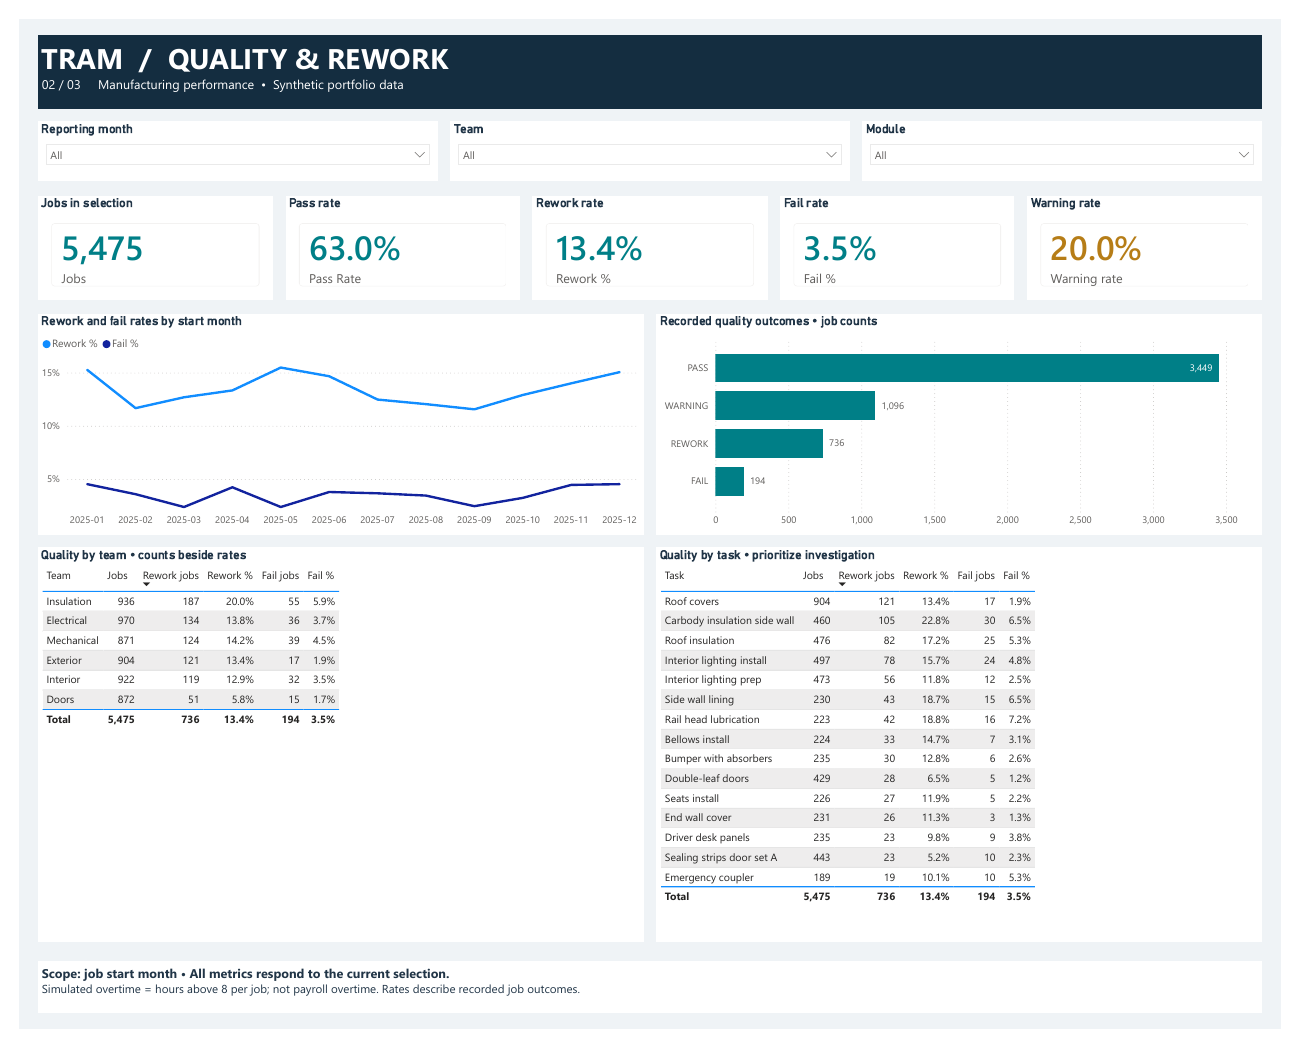

This screenshot's page, from the dashboard's own definition file:
{"tool":"powerbi","page":{"name":"Quality & Rework","canvas":[1600,1280],"ordinal":1},"visuals":[{"type":"textbox","box":[24,20,1552,94],"z":16},{"type":"slicer","title":"Reporting month","fields":{"Values":["vw_tram_kpi.Reporting Month"]},"box":[24,130,506.7,76],"z":17},{"type":"slicer","title":"Team","fields":{"Values":["vw_tram_kpi.team"]},"box":[546.7,130,506.7,76],"z":18},{"type":"slicer","title":"Module","fields":{"Values":["vw_tram_kpi.module"]},"box":[1069.3,130,506.7,76],"z":19},{"type":"textbox","box":[24,1194,1552,66],"z":20},{"type":"cardVisual","title":"Jobs in selection","fields":{"Data":["vw_tram_kpi.Total Jobs"]},"box":[24,224,297.6,132],"z":21},{"type":"cardVisual","title":"Pass rate","fields":{"Data":["vw_tram_kpi.Pass Rate"]},"box":[337.6,224,297.6,132],"z":22},{"type":"cardVisual","title":"Rework rate","fields":{"Data":["vw_tram_kpi.Rework Rate"]},"box":[651.2,224,297.6,132],"z":23},{"type":"cardVisual","title":"Fail rate","fields":{"Data":["vw_tram_kpi.Fail Rate"]},"box":[964.8,224,297.6,132],"z":24},{"type":"cardVisual","title":"Warning rate","fields":{"Data":["vw_tram_kpi.Warning Rate"]},"box":[1278.4,224,297.6,132],"z":25},{"type":"lineChart","title":"Rework and fail rates by start month","fields":{"Category":["vw_tram_kpi.Reporting Month"],"Y":["vw_tram_kpi.Rework Rate","vw_tram_kpi.Fail Rate"]},"box":[24,374,768,280],"z":26},{"type":"clusteredBarChart","title":"Recorded quality outcomes • job counts","fields":{"Category":["vw_tram_kpi.work_quality"],"Y":["vw_tram_kpi.Total Jobs"]},"box":[808,374,768,280],"z":27},{"type":"tableEx","title":"Quality by team • counts beside rates","fields":{"Values":["vw_tram_kpi.team","vw_tram_kpi.Total Jobs","vw_tram_kpi.Rework Jobs","vw_tram_kpi.Rework Rate","vw_tram_kpi.Fail Jobs","vw_tram_kpi.Fail Rate"]},"box":[24,670,768,500],"z":28},{"type":"tableEx","title":"Quality by task • prioritize investigation","fields":{"Values":["vw_tram_kpi.item_name","vw_tram_kpi.Total Jobs","vw_tram_kpi.Rework Jobs","vw_tram_kpi.Rework Rate","vw_tram_kpi.Fail Jobs","vw_tram_kpi.Fail Rate"]},"box":[808,670,768,500],"z":29}]}

Visuals, with their boxes in screenshot pixels (x1, y1, x2, y2), scaled from the page's 1600x1280 canvas onto the 1300x1048 screenshot:
textbox: <bbox>20, 16, 1280, 93</bbox>
"Reporting month" slicer: <bbox>20, 106, 431, 169</bbox>
"Team" slicer: <bbox>444, 106, 856, 169</bbox>
"Module" slicer: <bbox>869, 106, 1280, 169</bbox>
textbox: <bbox>20, 978, 1280, 1032</bbox>
"Jobs in selection" cardVisual: <bbox>20, 183, 261, 291</bbox>
"Pass rate" cardVisual: <bbox>274, 183, 516, 291</bbox>
"Rework rate" cardVisual: <bbox>529, 183, 771, 291</bbox>
"Fail rate" cardVisual: <bbox>784, 183, 1026, 291</bbox>
"Warning rate" cardVisual: <bbox>1039, 183, 1280, 291</bbox>
"Rework and fail rates by start month" lineChart: <bbox>20, 306, 644, 535</bbox>
"Recorded quality outcomes • job counts" clusteredBarChart: <bbox>656, 306, 1280, 535</bbox>
"Quality by team • counts beside rates" tableEx: <bbox>20, 549, 644, 958</bbox>
"Quality by task • prioritize investigation" tableEx: <bbox>656, 549, 1280, 958</bbox>
